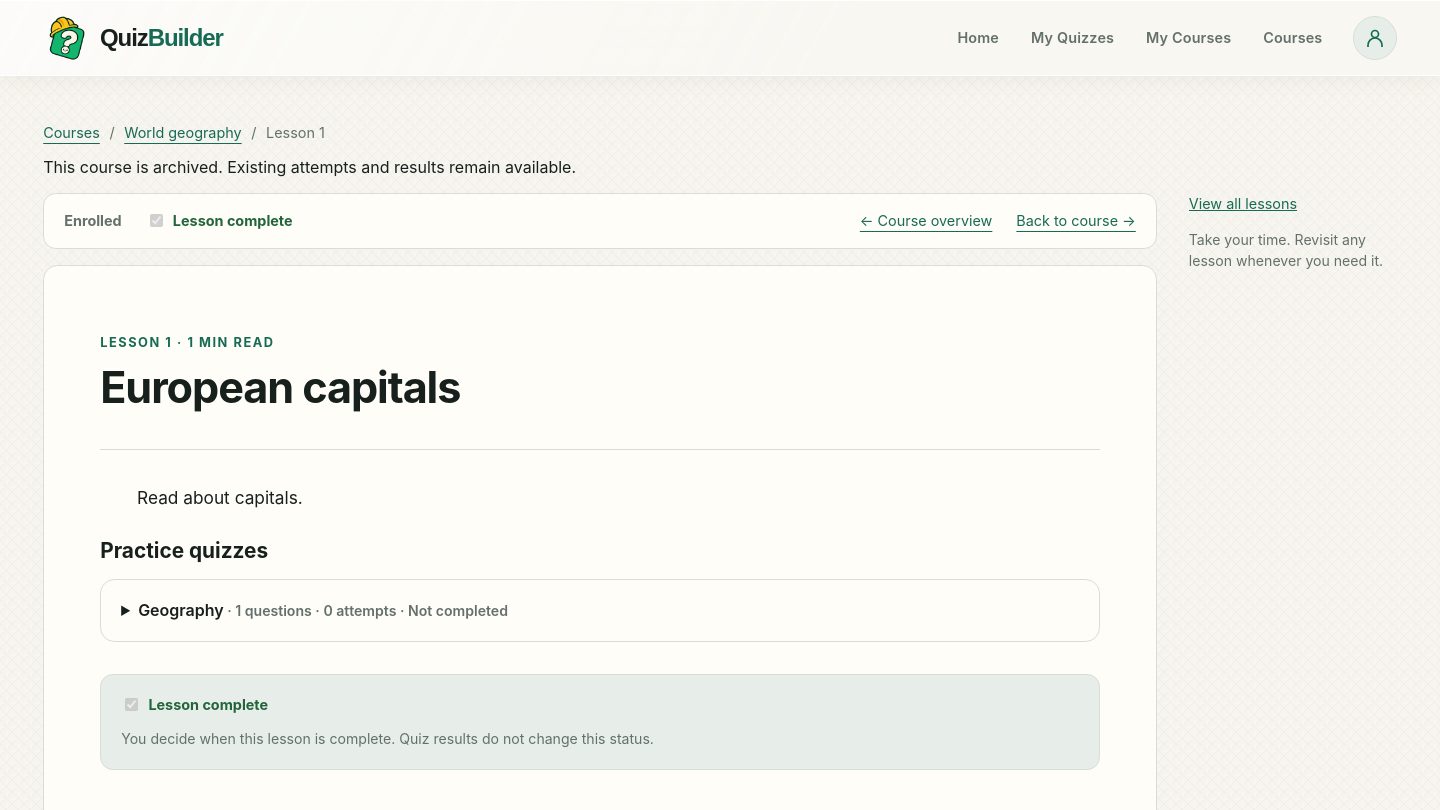
keeps archived course progress visible and disables new learning writes
The image size is (1440, 810).
Expected: the checkbox labelled "Lesson complete" next to "Enrolled" is disabled, [150,214,163,228]
Click the heading "Geography": (323, 610) [138,600,508,620]
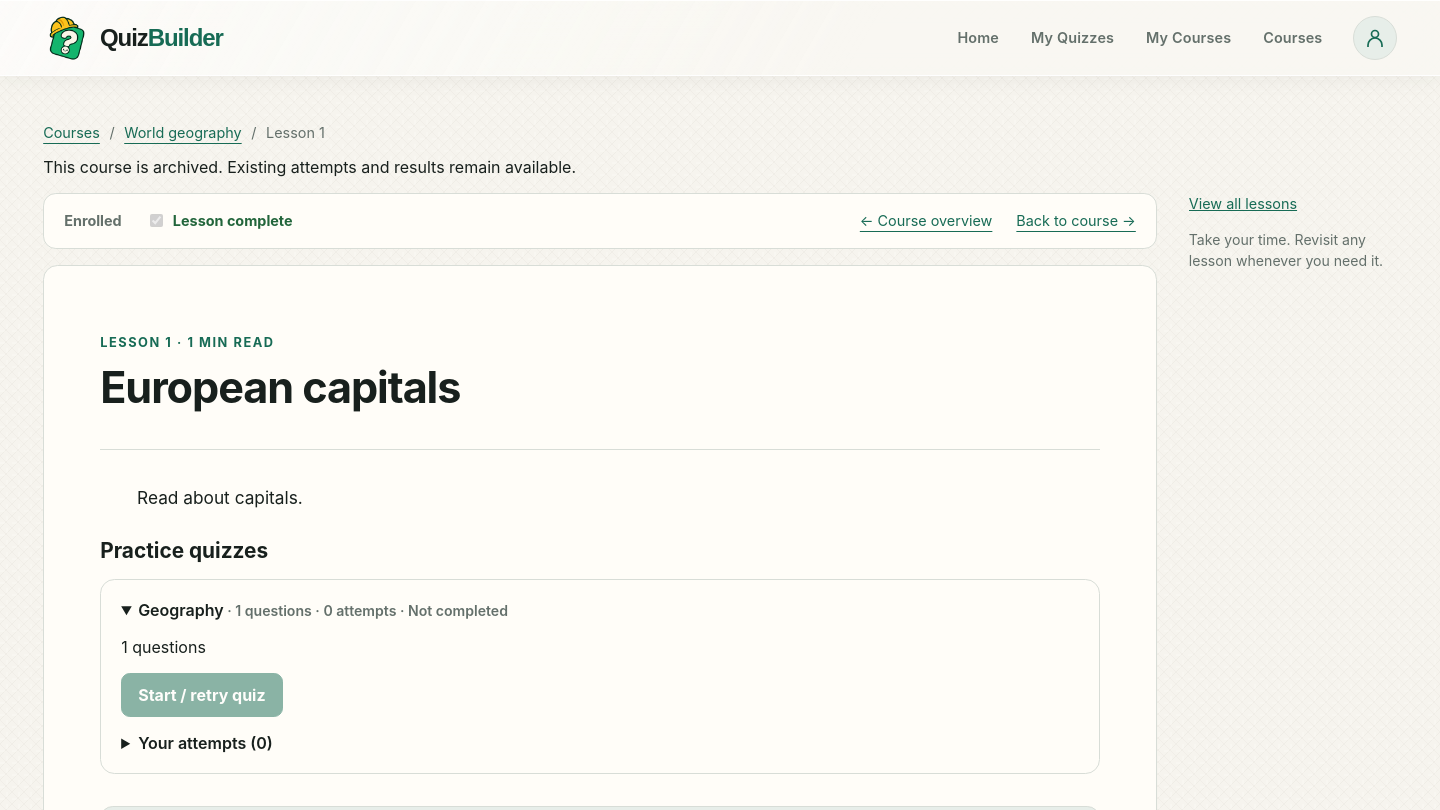
Expected: the button "Start / retry quiz" is disabled, [121,673,283,717]
